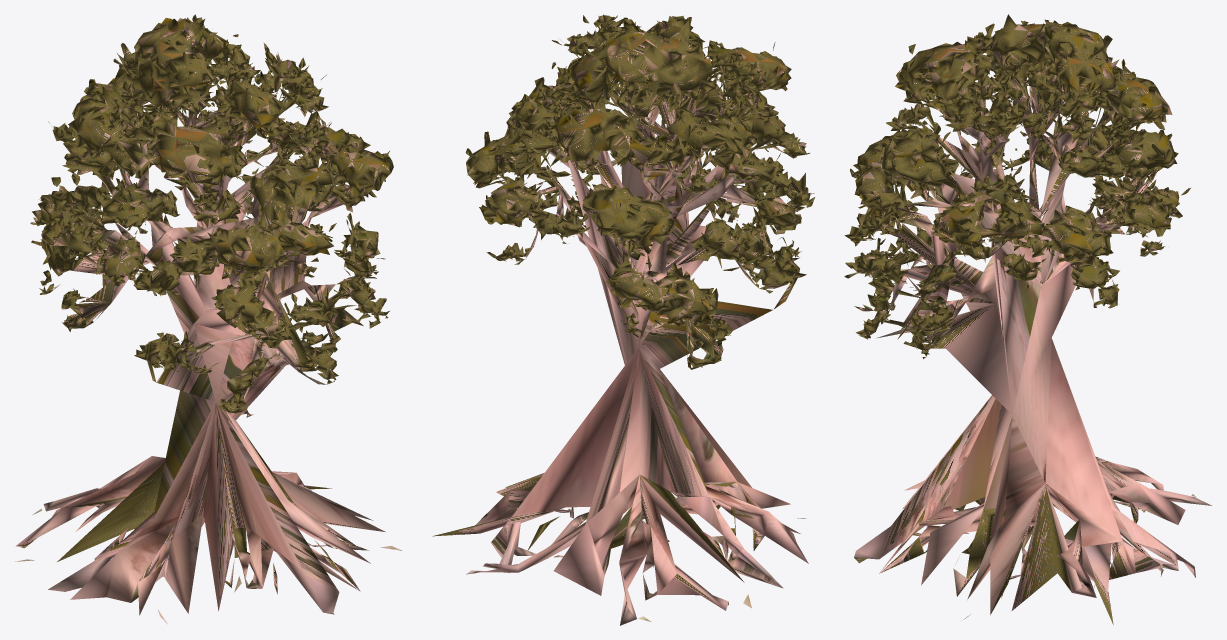
Rendered from Metaphor_The_Tree_of.glb.
3 renders of one model, left to right at view 1: azimuth 30°, elevation 25°; view 2: azimuth 150°, elevation 25°; view 3: azimuth 270°, elevation 25°, orthographic. The views are drawn at different scales.
Parts seen in each view (by area): view 1: Metaphor_The_Tree_of; view 2: Metaphor_The_Tree_of; view 3: Metaphor_The_Tree_of.
Part boxes in pixels (x1,y1,x2,y2): Metaphor_The_Tree_of: [15, 14, 401, 624]; Metaphor_The_Tree_of: [432, 14, 814, 625]; Metaphor_The_Tree_of: [844, 14, 1211, 624].
Bounding box in the file's own units: 1.25 × 1.99 × 1.27.
1 material, 1 textured.
